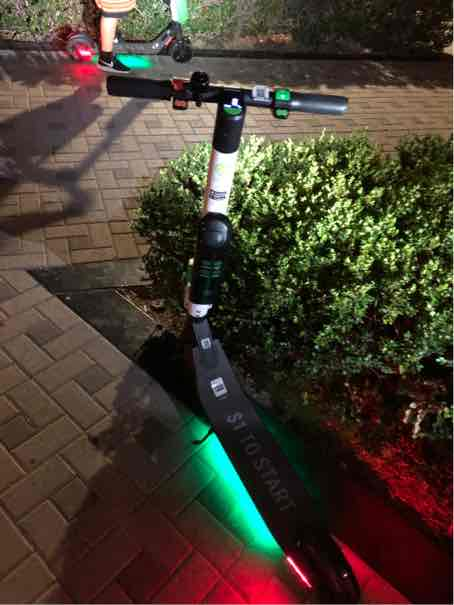scooter: (96, 74, 368, 605)
